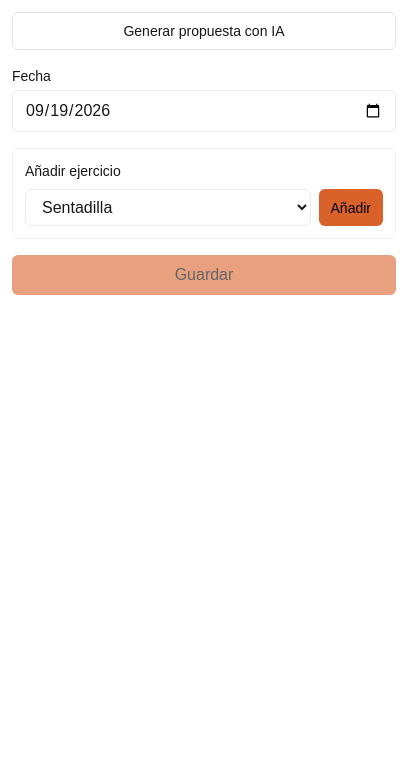
Test case: SessionForm › añade un bloque de cardio con métricas opcionales al elegir un ejercicio de cardio
Select "Carrera" in the dropdown labelled "Añadir ejercicio" at (168, 208), box x1=25 y1=189 x2=310 y2=226
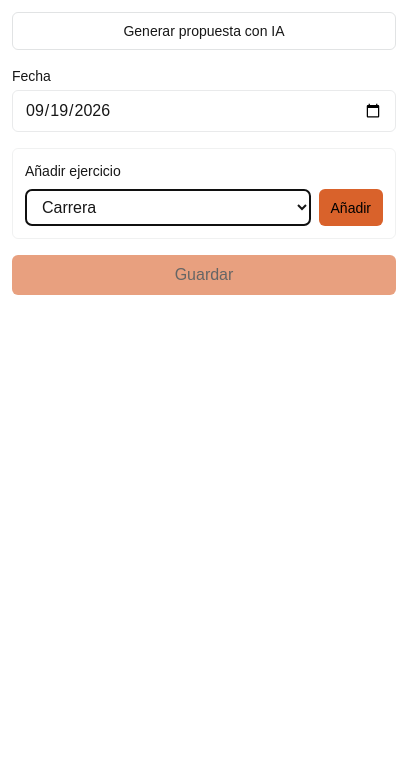
Click the button "Añadir" at (351, 208), box x1=318 y1=189 x2=383 y2=226
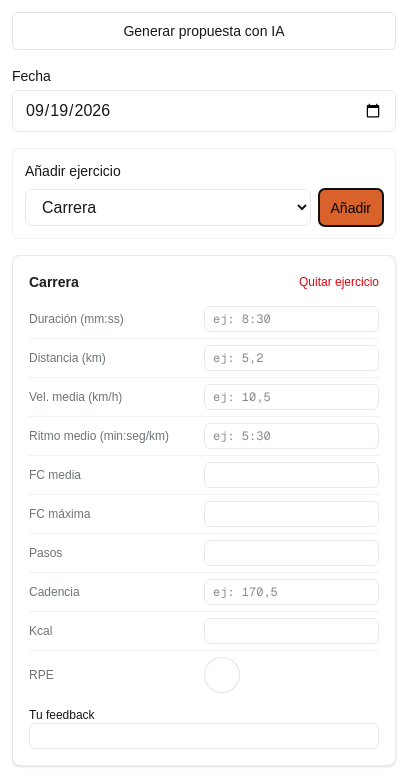
Expected: the heading "Carrera" is shown, x1=29 y1=272 x2=79 y2=292
Expected: the field named "duración" is shown, x1=204 y1=306 x2=379 y2=332
